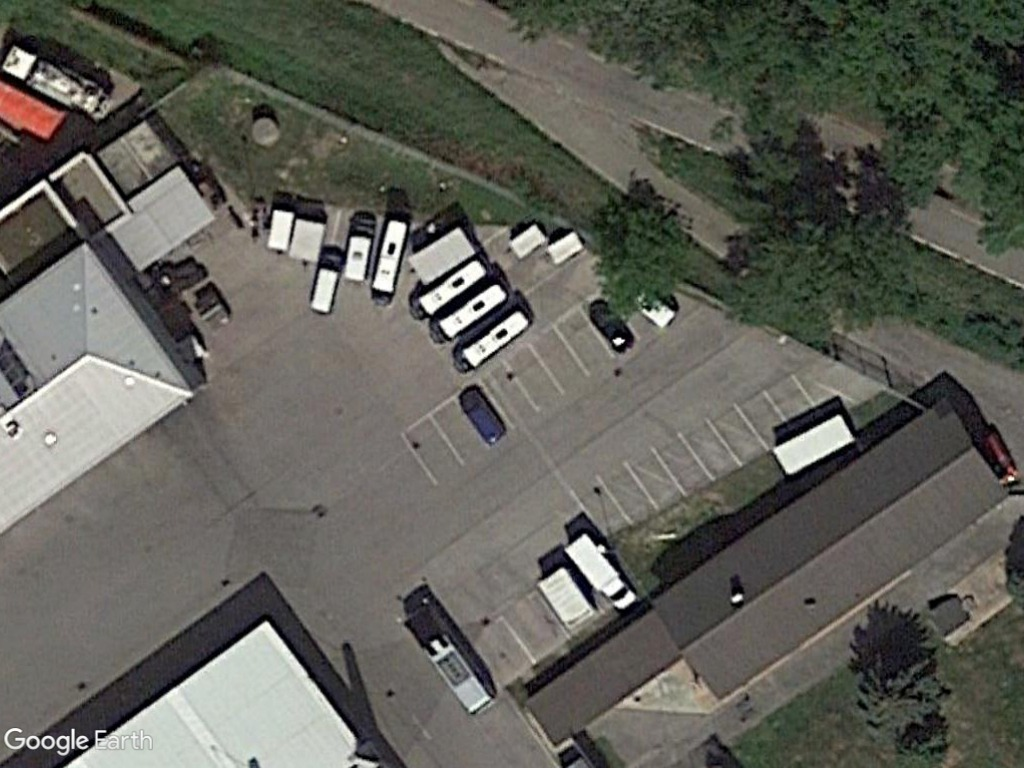bus: (396, 601, 499, 717)
car: (454, 386, 507, 449)
truck: (560, 529, 644, 616)
van: (304, 241, 349, 318), (341, 209, 381, 285)
